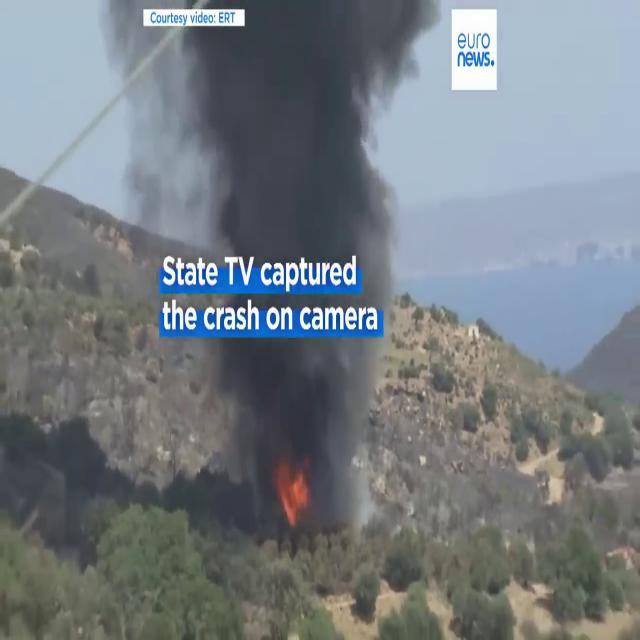Fire: (271, 455, 312, 532)
Smoke: (162, 0, 443, 279), (193, 336, 374, 528)
